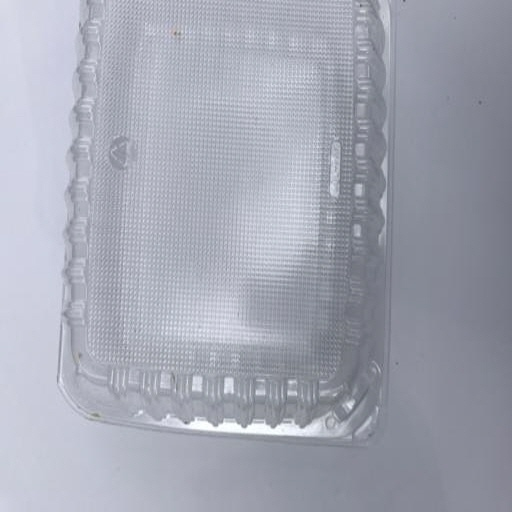Plastic_4: (58, 1, 399, 447)
